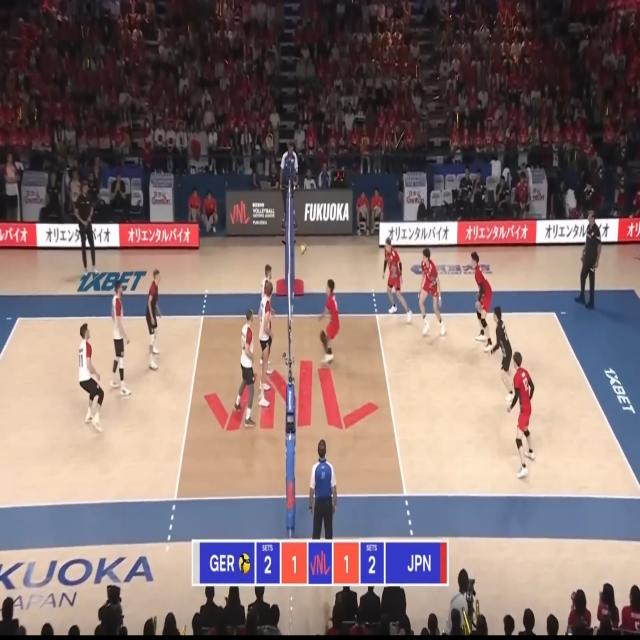ball: (300, 243, 307, 255)
